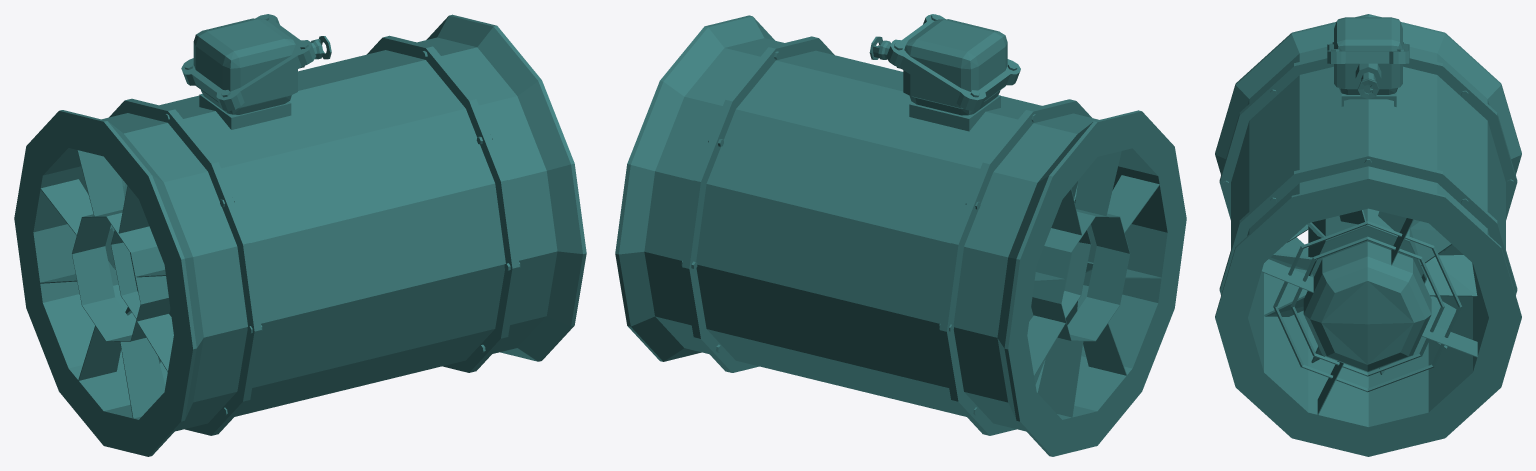
Rendered from wip_ventilator.glb.
The picture shows the model from 3 angles, left to right: view 1: azimuth 30°, elevation 25°; view 2: azimuth 150°, elevation 25°; view 3: azimuth 270°, elevation 25°; orthographic projection. The views are drawn at different scales.
Parts seen in each view (by area): view 1: product-9aaf70e7-c33d-4a9a-beae-72fa2bada700-body; view 2: product-9aaf70e7-c33d-4a9a-beae-72fa2bada700-body; view 3: product-9aaf70e7-c33d-4a9a-beae-72fa2bada700-body.
Boxes of the visible parts, x1,y1,x2,y2 form: product-9aaf70e7-c33d-4a9a-beae-72fa2bada700-body: (14, 14, 586, 456); product-9aaf70e7-c33d-4a9a-beae-72fa2bada700-body: (615, 14, 1186, 456); product-9aaf70e7-c33d-4a9a-beae-72fa2bada700-body: (1215, 14, 1521, 456).
Bounding box in the file's own units: 0.45 × 0.3871 × 0.3337.
